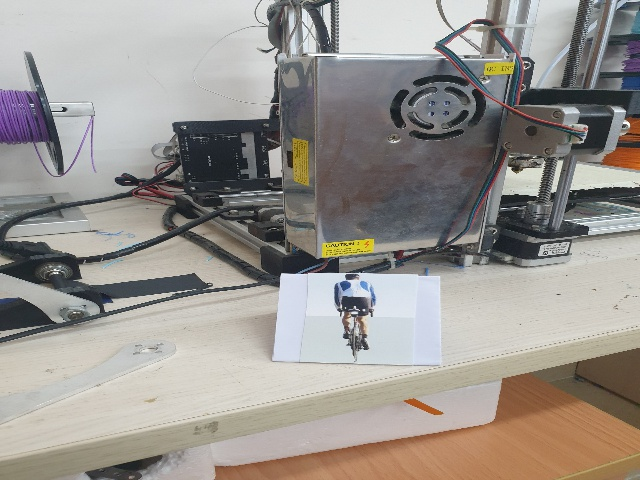Cyclist: (324, 271, 385, 365)
